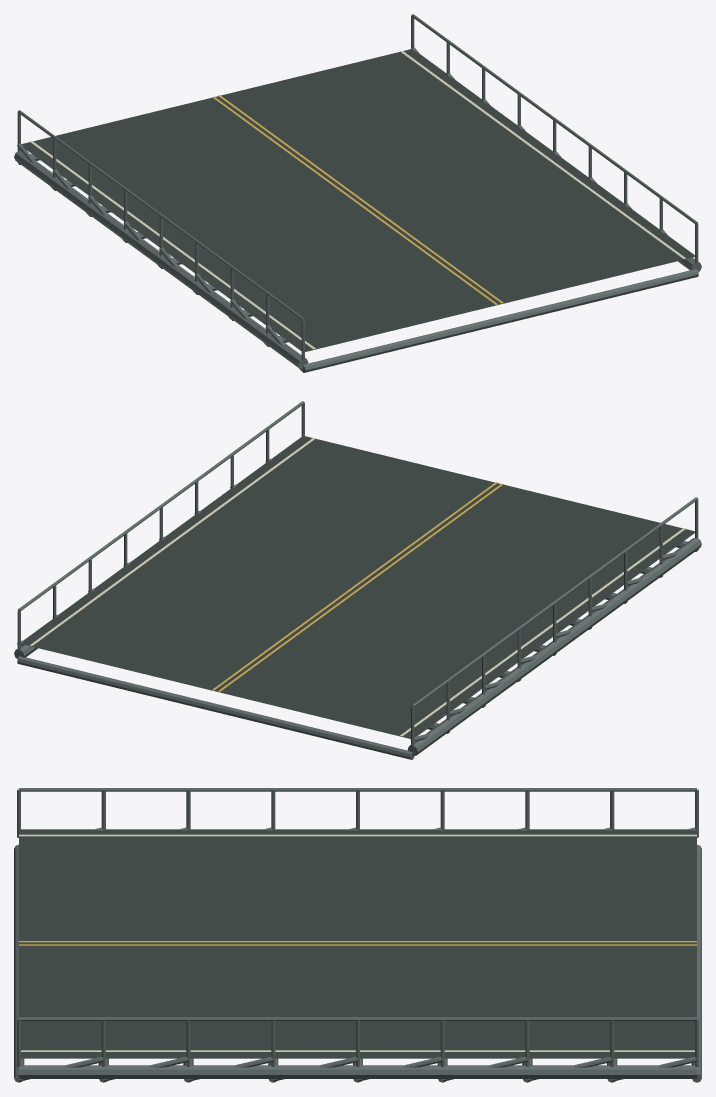
Rendered from XBLD107.glb.
The picture shows the model from 3 angles, top to bottom: view 1: azimuth 30°, elevation 25°; view 2: azimuth 150°, elevation 25°; view 3: azimuth 270°, elevation 25°; orthographic projection. The views are drawn at different scales.
Parts seen in each view (by area): view 1: 보강 교량 중간 경간; view 2: 보강 교량 중간 경간; view 3: 보강 교량 중간 경간.
Boxes of the visible parts, x1,y1,x2,y2 form: 보강 교량 중간 경간: (14, 14, 701, 372); 보강 교량 중간 경간: (14, 401, 701, 759); 보강 교량 중간 경간: (14, 788, 701, 1082).
Size of the model in its own units: 13.14 by 1.7 by 16.24.
